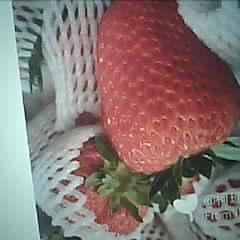straw-ripe: (98, 0, 240, 171)
